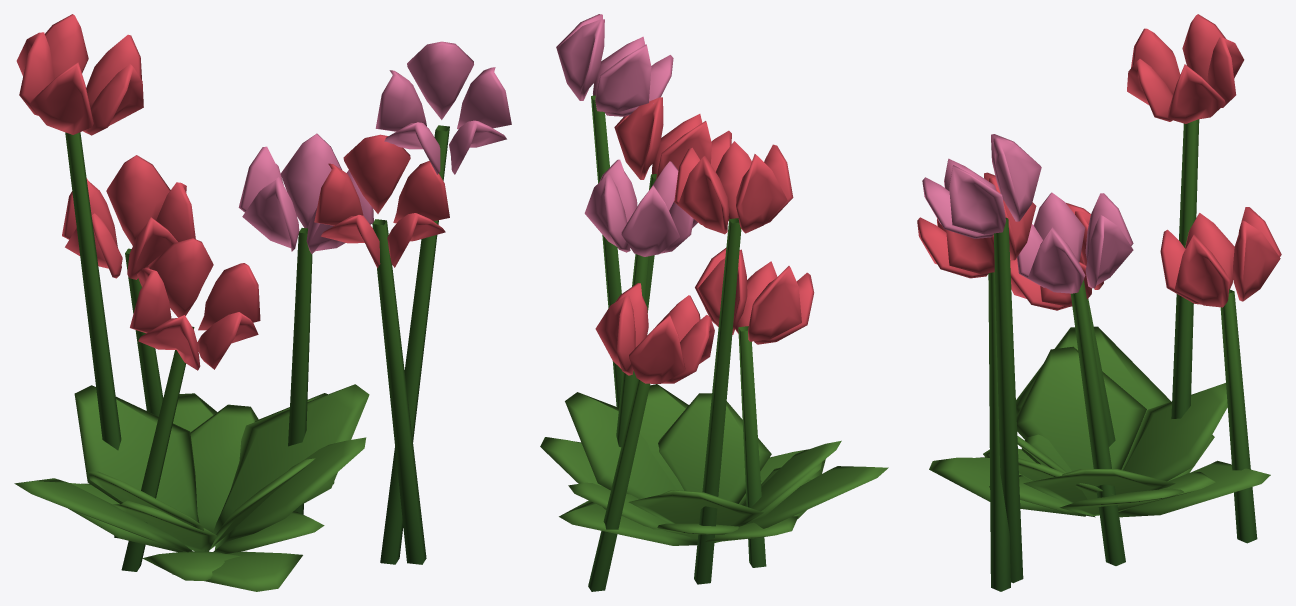
File: flowers_tulip.glb
3 views of the same model, side by side, from view 1: azimuth 30°, elevation 25°; view 2: azimuth 150°, elevation 25°; view 3: azimuth 270°, elevation 25° (orthographic). The views are drawn at different scales.
Parts seen in each view (by area): view 1: flowers_tulip; view 2: flowers_tulip; view 3: flowers_tulip.
Boxes of the visible parts, x1,y1,x2,y2 form: flowers_tulip: (14, 14, 511, 591); flowers_tulip: (540, 14, 888, 591); flowers_tulip: (917, 14, 1281, 591).
Size of the model in its own units: 0.4656 by 0.5447 by 0.3917.
